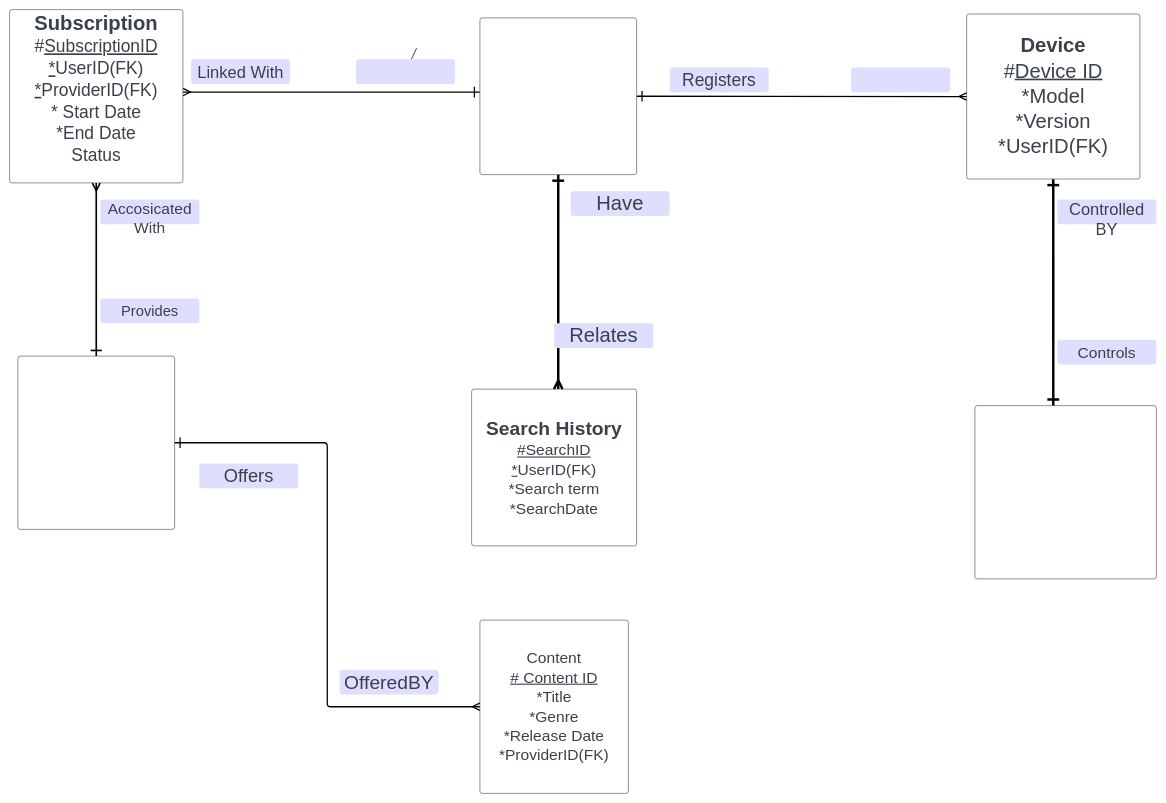
The diagram is 1166 pixels wide and 803 high, and some of its shapes have lost their labels. Here are the shapes that lost their labels. From the top down, the centre of each, then its label:
At (x=405, y=71): "Subscribes".
At (x=900, y=79): "Registered to".
At (x=558, y=96): "User # UserID *Name *Email *Password".
At (x=96, y=442): "Content Provider # ProviderID * Name *service type".
At (x=1065, y=492): "Remote #RemoteID *Device ID(FK) *FirmWare Version".
